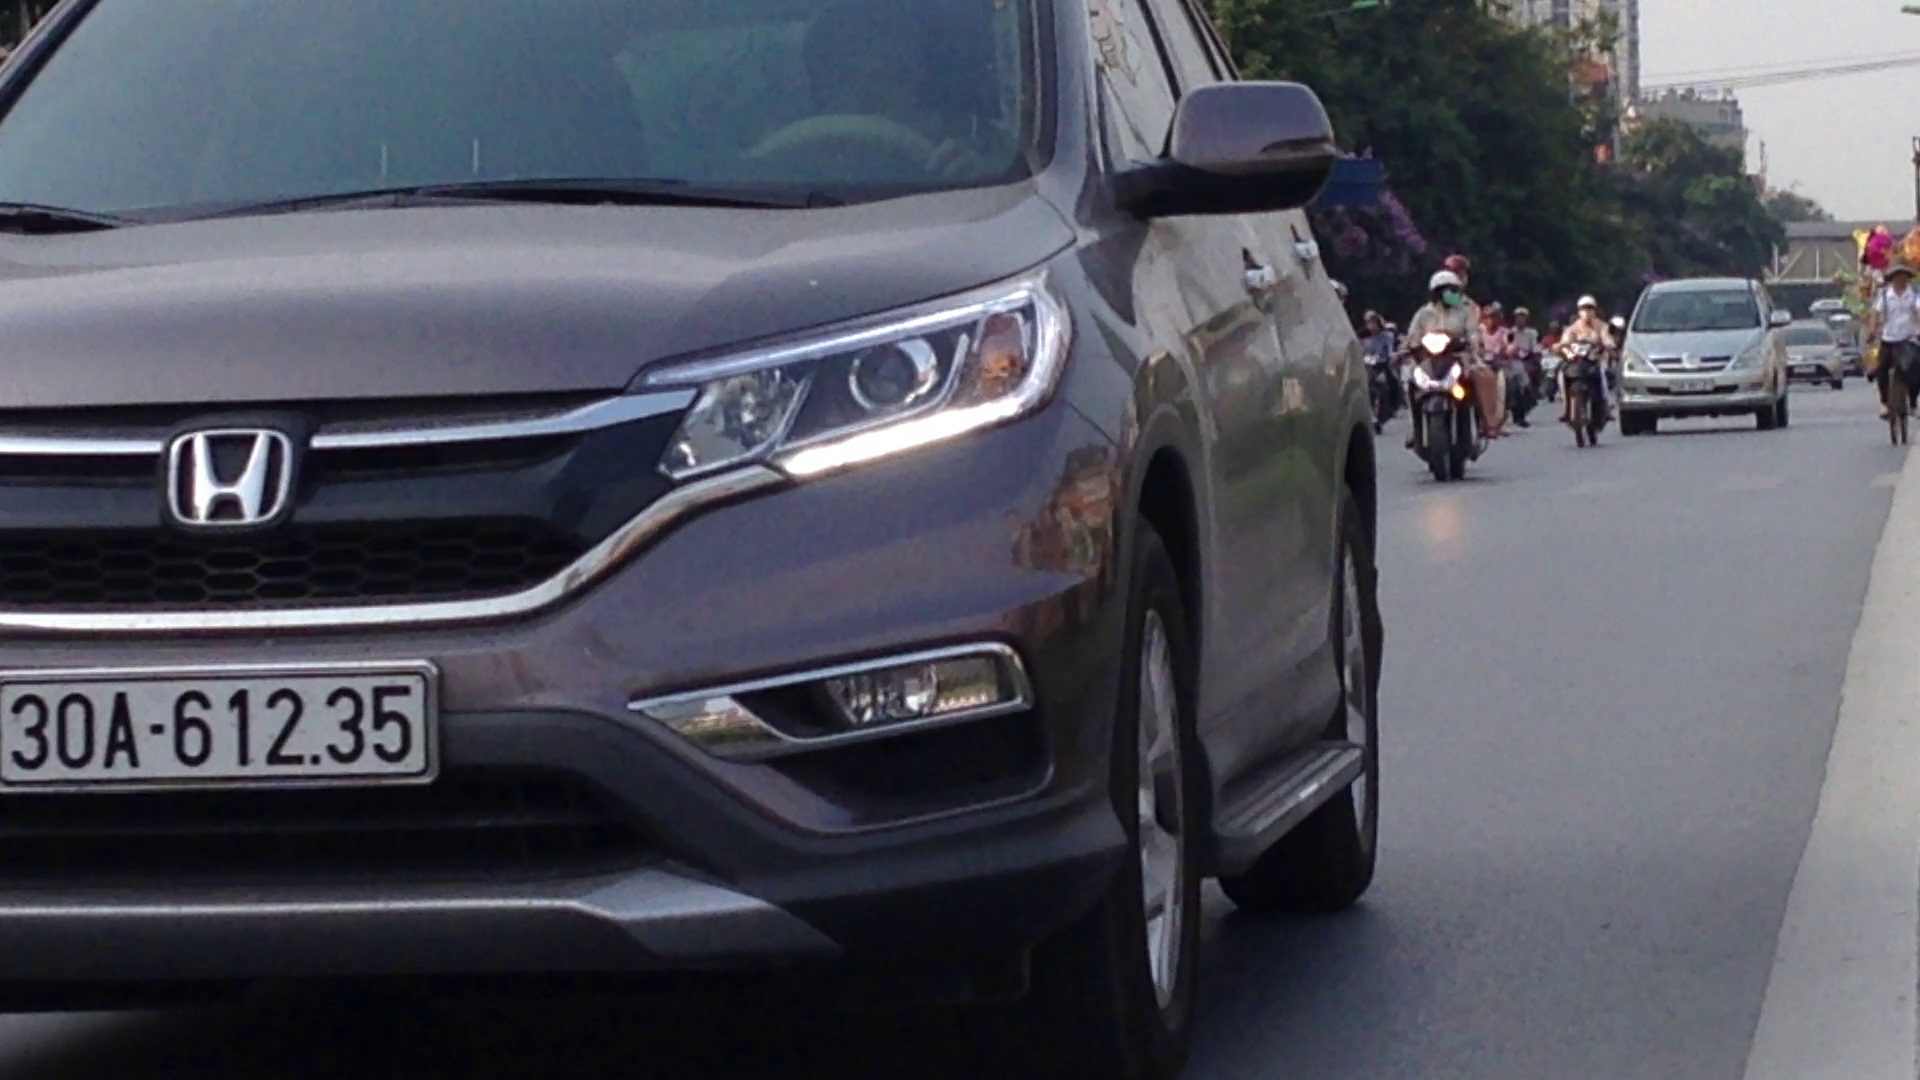vehicle-plate: (6, 665, 447, 790)
